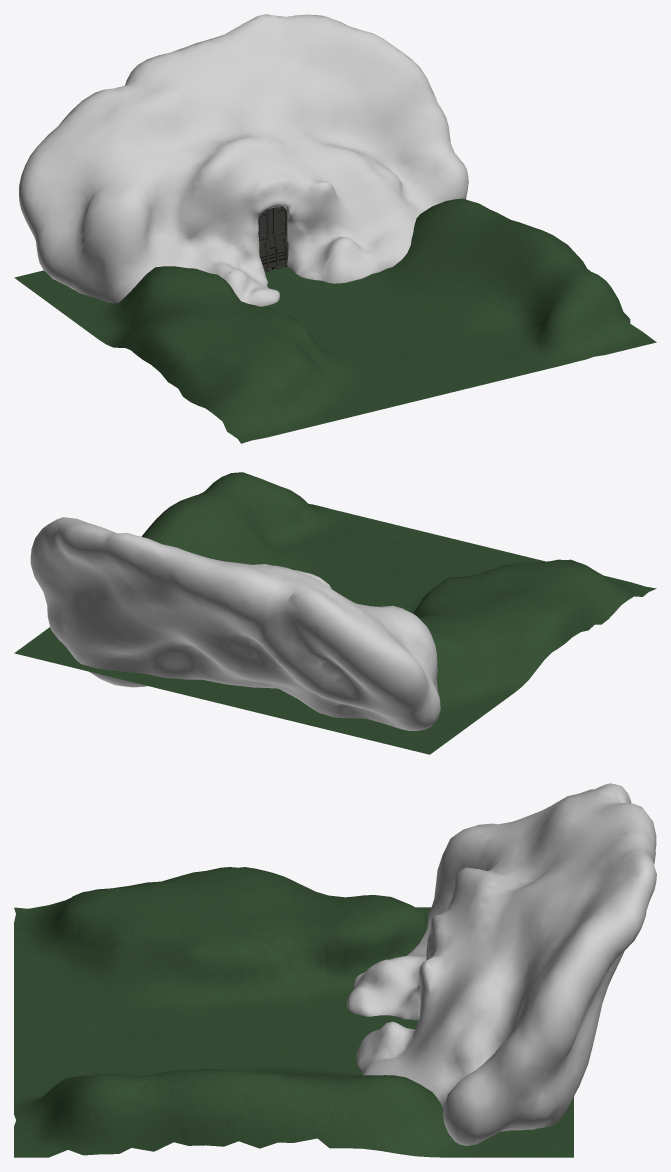
The model's file is Mountain gate.fbx.
3 renders of one model, top to bottom at view 1: azimuth 30°, elevation 25°; view 2: azimuth 150°, elevation 25°; view 3: azimuth 270°, elevation 25°, orthographic. The views are drawn at different scales.
Parts seen in each view (by area): view 1: Icosphere, Plane, Cube.001; view 2: Plane, Icosphere; view 3: Plane, Icosphere.
Part boxes in pixels (box(x1,y1,x2,y2)): Icosphere: box(19, 14, 468, 306); Plane: box(14, 198, 656, 443); Cube.001: box(258, 206, 288, 271); Plane: box(14, 472, 656, 754); Icosphere: box(30, 517, 440, 730); Plane: box(14, 867, 573, 1157); Icosphere: box(347, 783, 656, 1145).
Bounding box in the file's own units: 27713 × 12841 × 29582.
